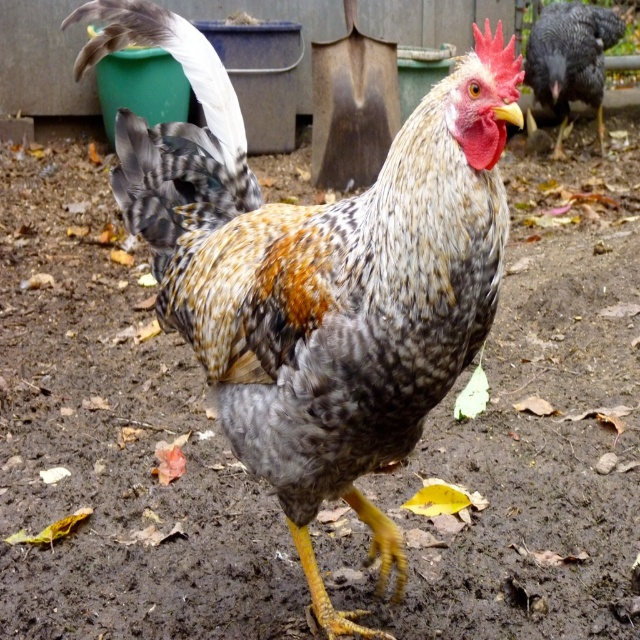Chicken: (50, 0, 533, 639), (524, 0, 630, 161)
